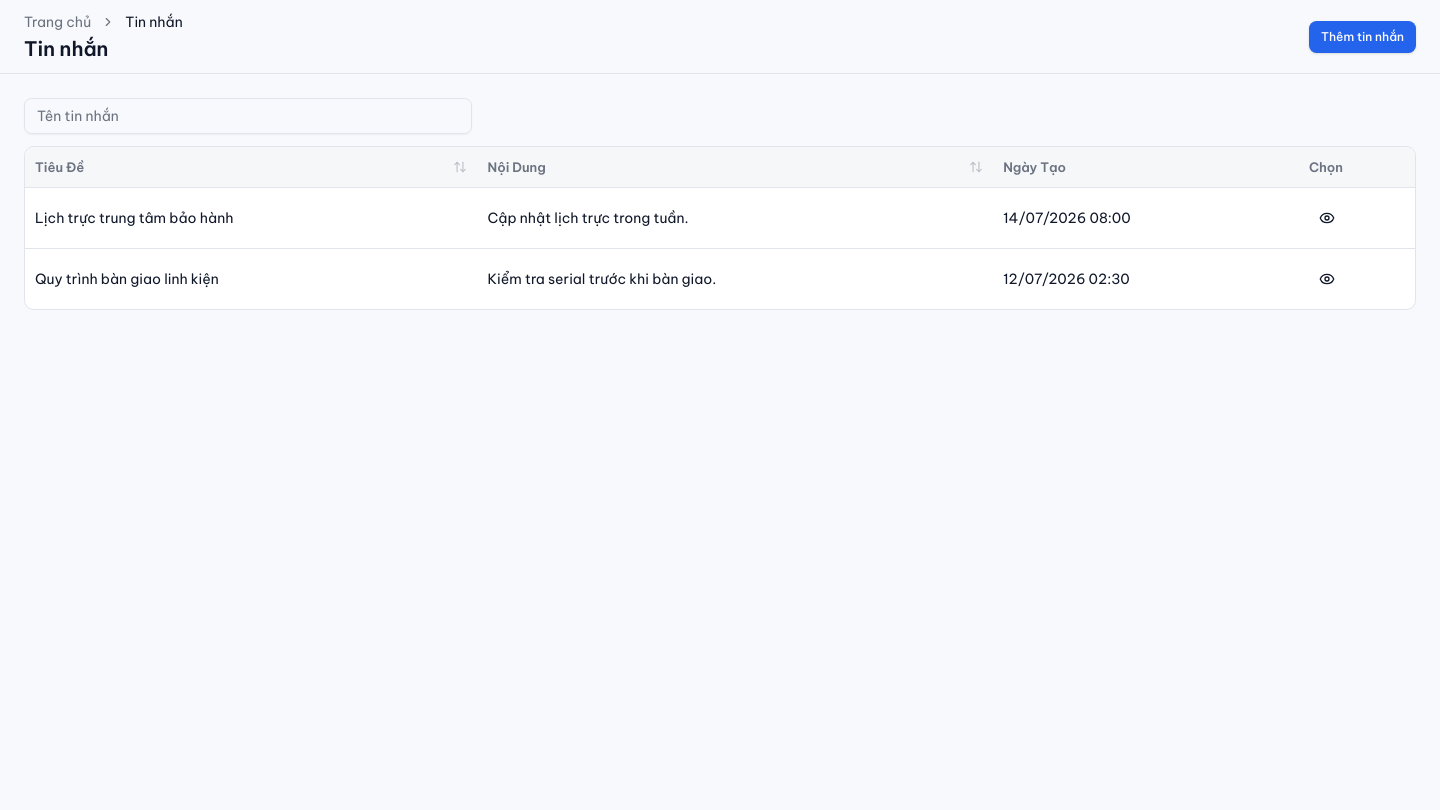
Test: TinTucPage › posts a new item, invalidates the query, and re-lists it
The image size is (1440, 810).
Expected: the text "Lịch trực trung tâm bảo hành" is shown, [25,187,478,248]
Click the button "Thêm tin nhắn": (1363, 36) [1309,20,1416,52]
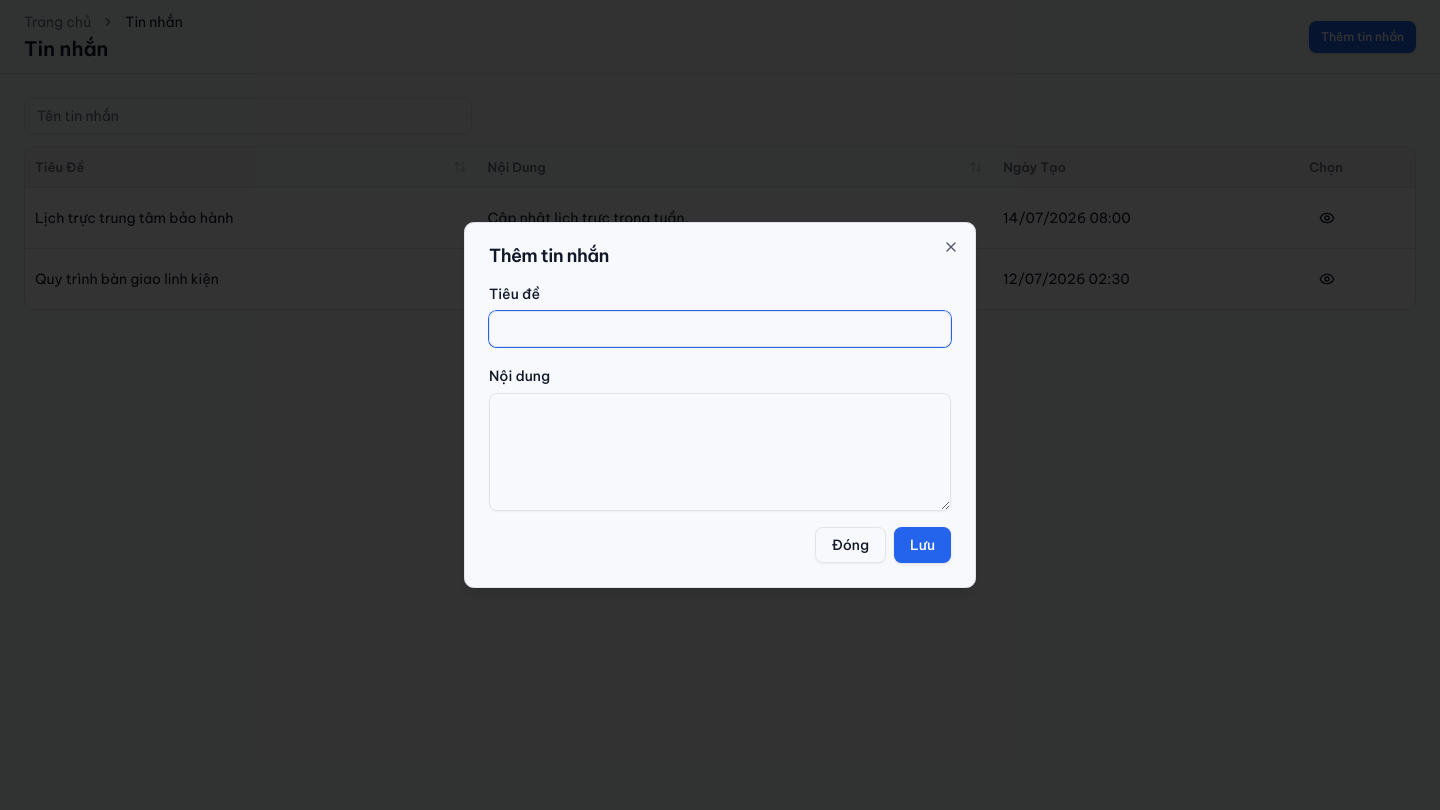
In the field labelled "Tiêu đề": (720, 329) [489,311,951,347], type "Lịch bảo trì tháng 8"
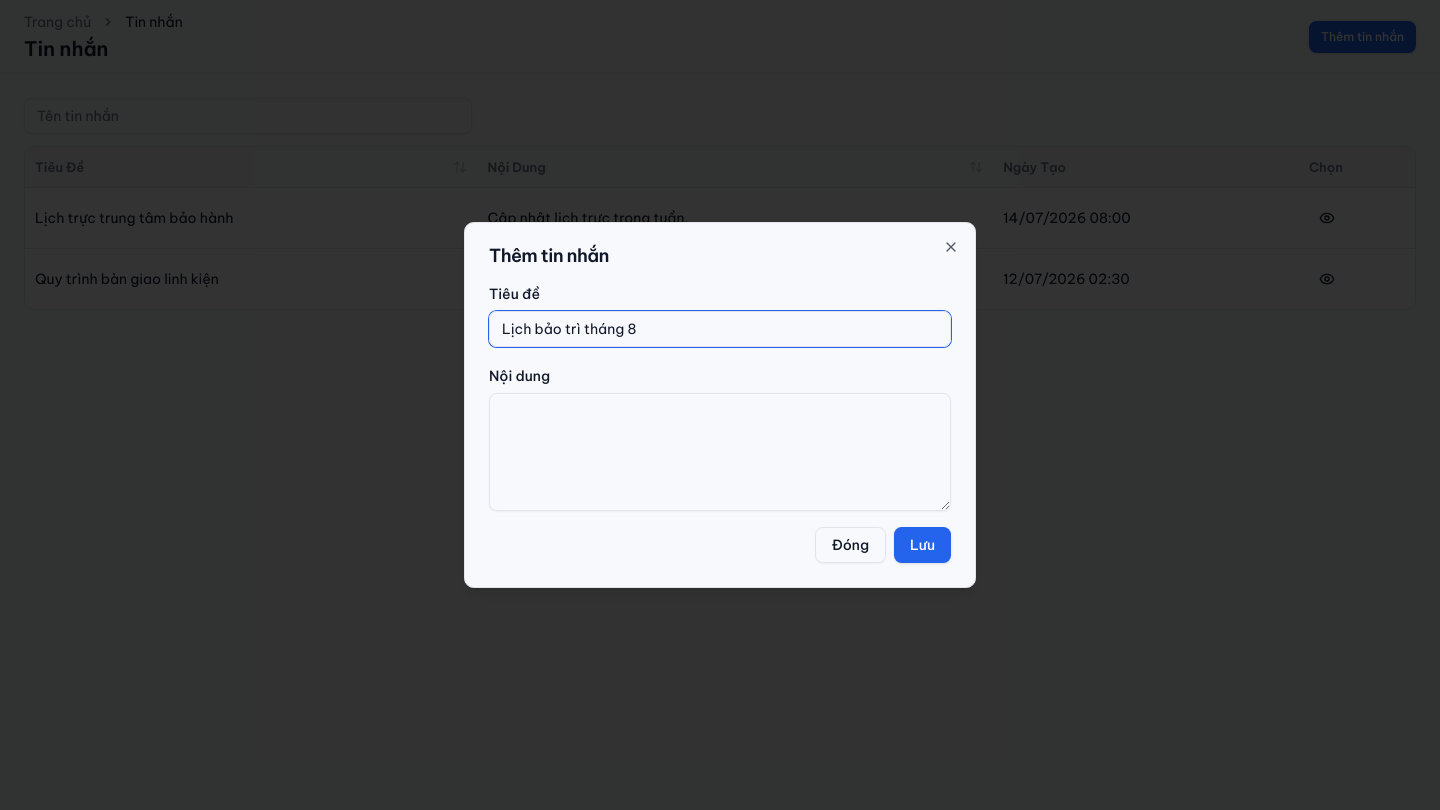
In the text box labelled "Nội dung": (720, 452) [489,393,951,511], type "Kiểm tra thiết bị trước ngày 01/08."
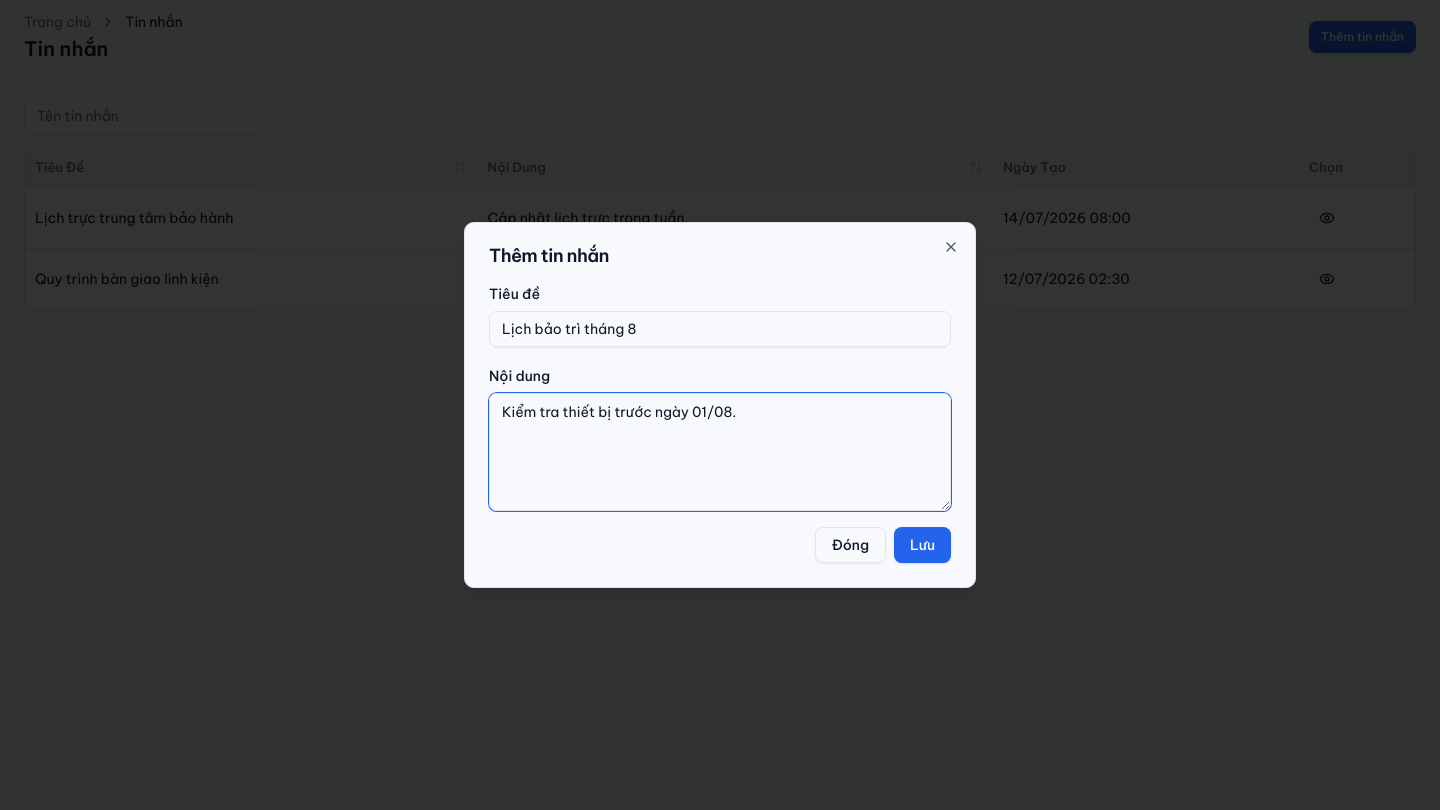
Click the button "Lưu": (922, 545) [894,527,951,563]
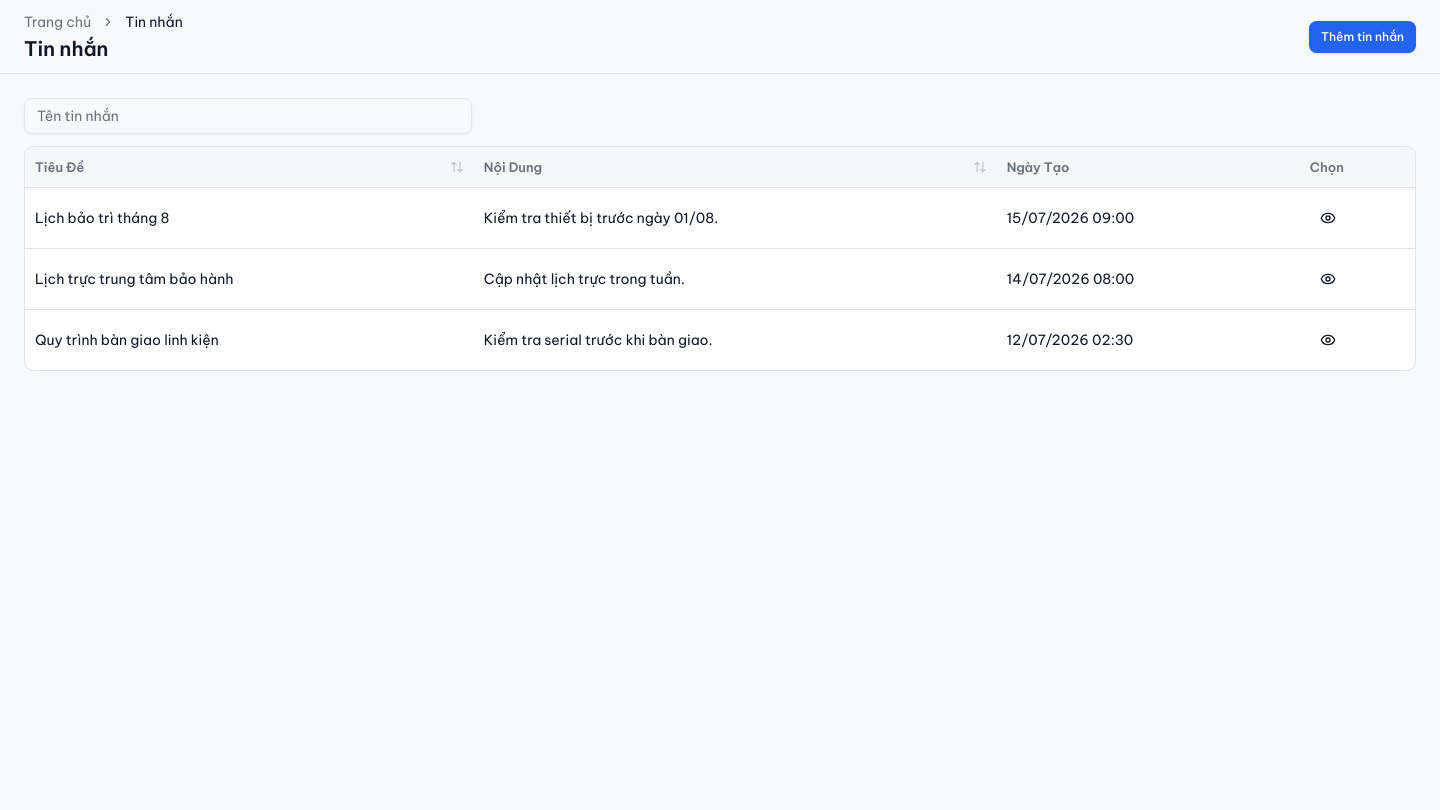
Expected: the text "Lịch bảo trì tháng 8" is shown, [25,187,474,248]
Expected: the text "Kiểm tra thiết bị trước ngày 01/08." is shown, [474,187,997,248]
